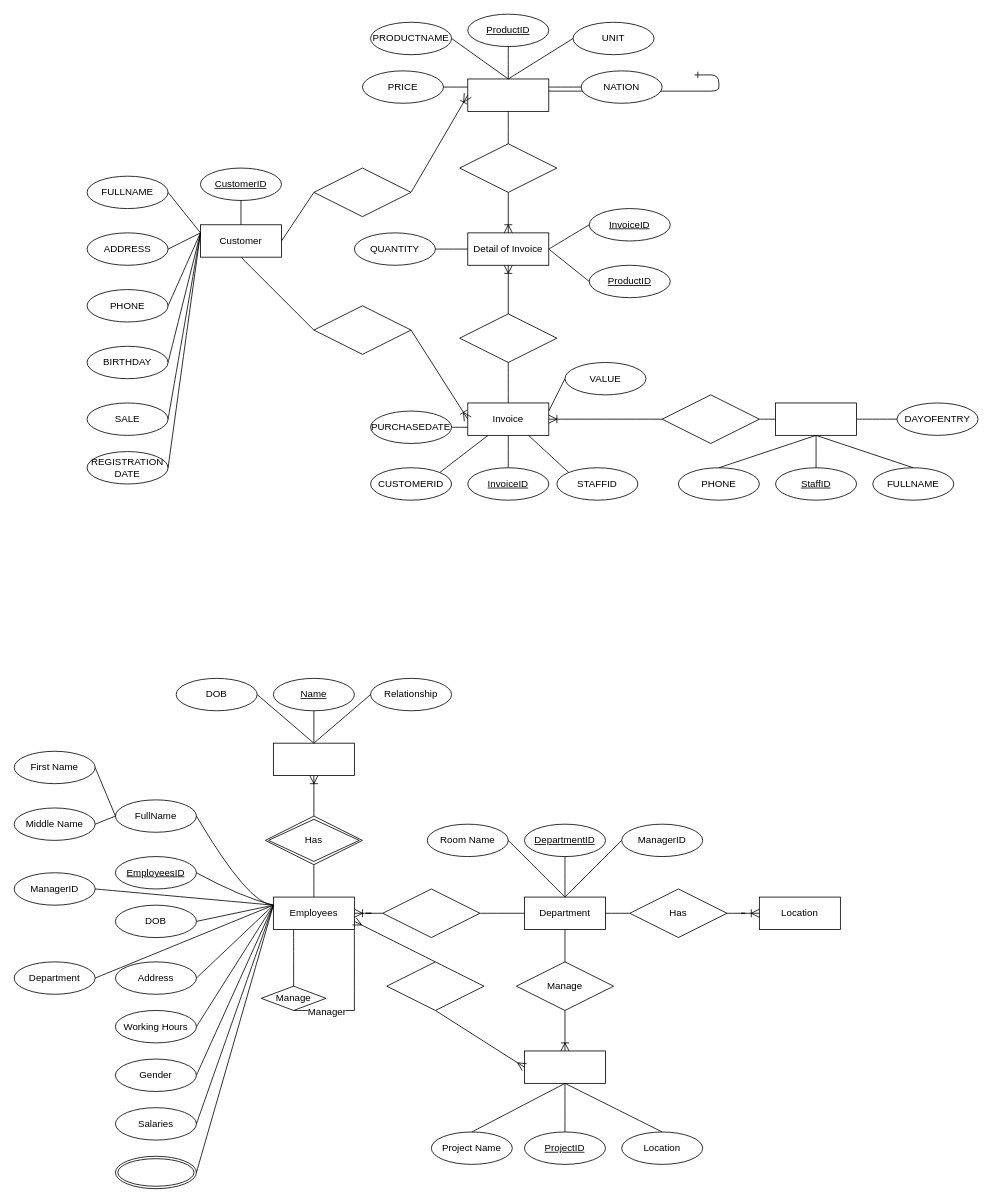
Some shapes in this 992 by 1203 pixel diagram are drawn without their labels. Each missing label, with the box of its shape:
Belong: (382, 888, 480, 938)
Buy: (313, 167, 411, 217)
Contain: (459, 313, 557, 362)
Handle: (661, 394, 759, 443)
Included: (459, 143, 557, 192)
Participate: (386, 961, 484, 1010)
Positions: (115, 1155, 196, 1189)
Product: (467, 78, 549, 111)
Projects: (524, 1050, 605, 1083)
Receive: (313, 305, 411, 354)
Relatives: (273, 742, 354, 776)
Staff: (775, 402, 857, 435)
